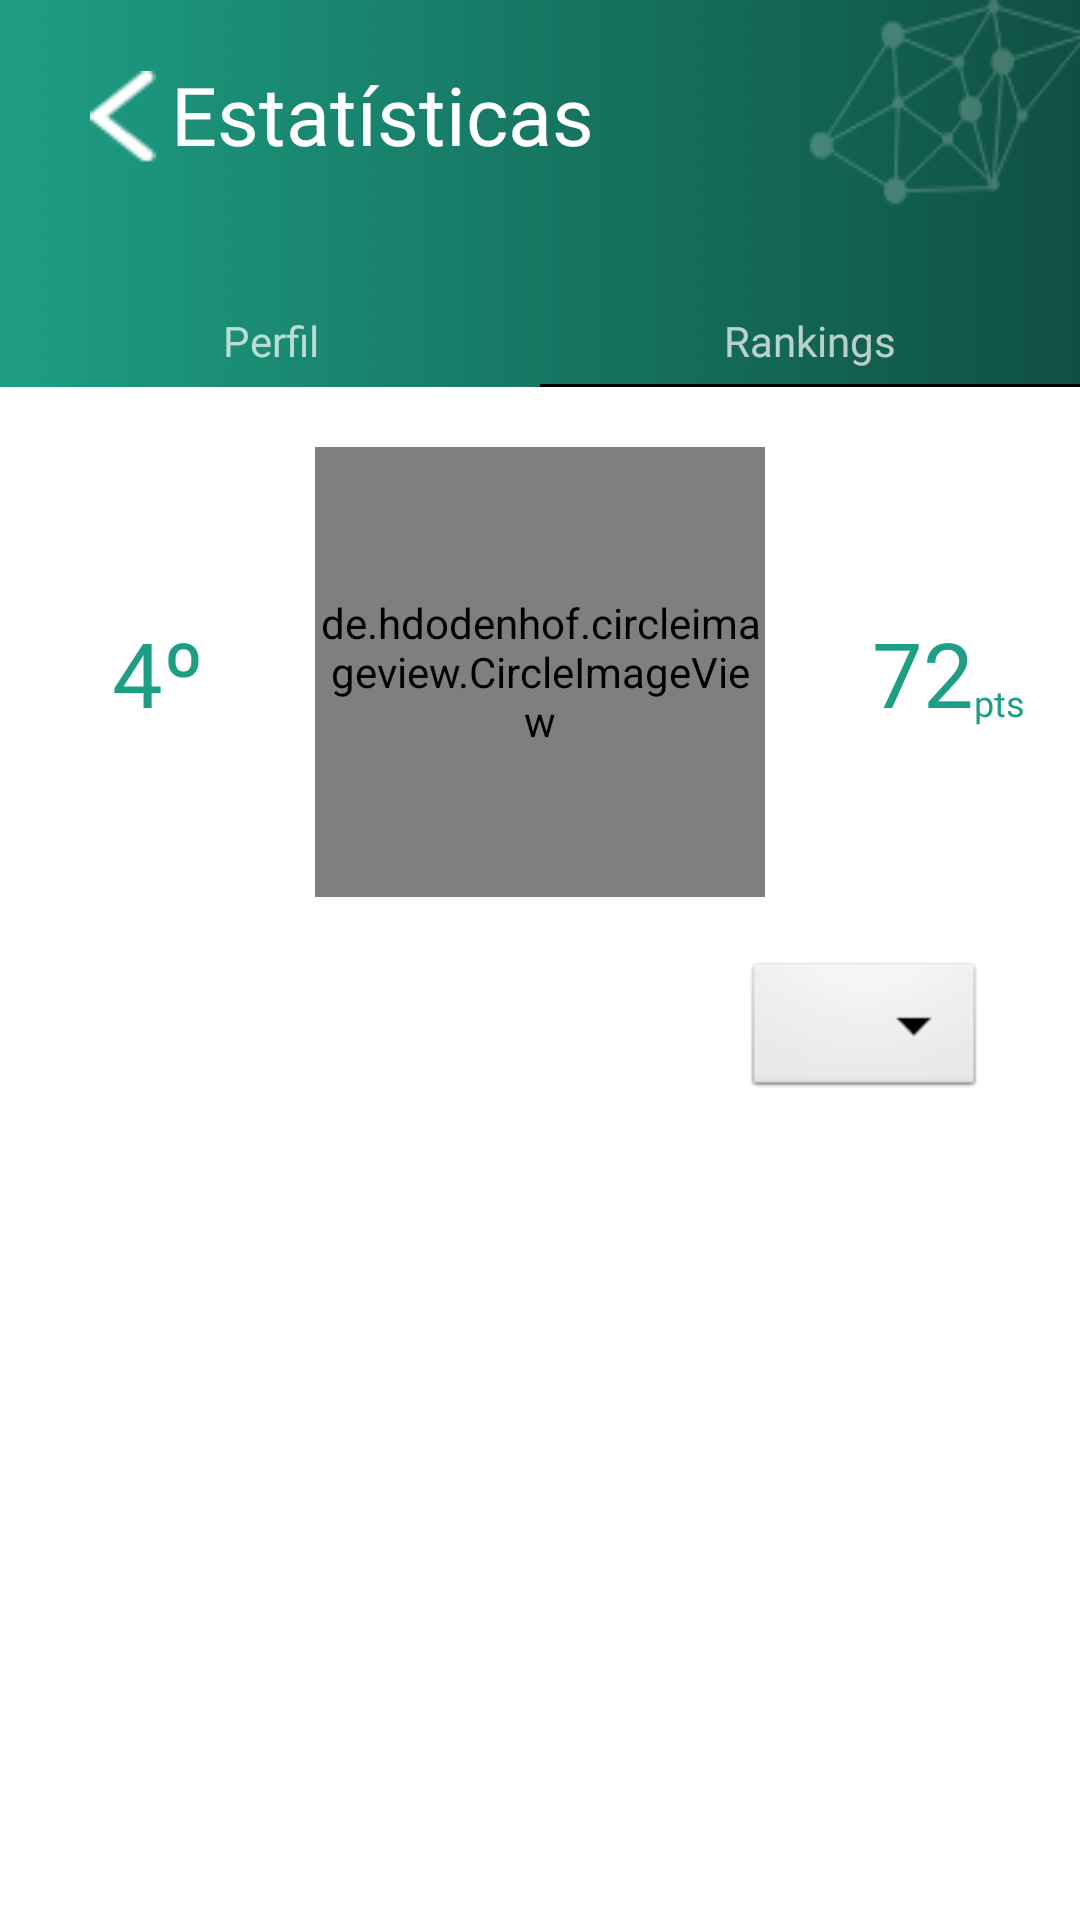

Icons on this 1080px×1920px Android screen, each with its box as (x1, y1, x2, y2):
back arrow: (90, 71, 156, 162)
